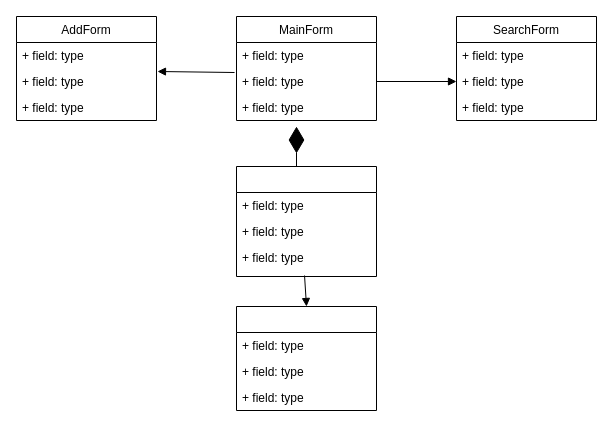
This 613x427 diagram has some shape labels left out. Each missing label, with the box of its shape:
DataMethods: (236, 166, 376, 276)
FilmRow: (236, 306, 376, 410)
